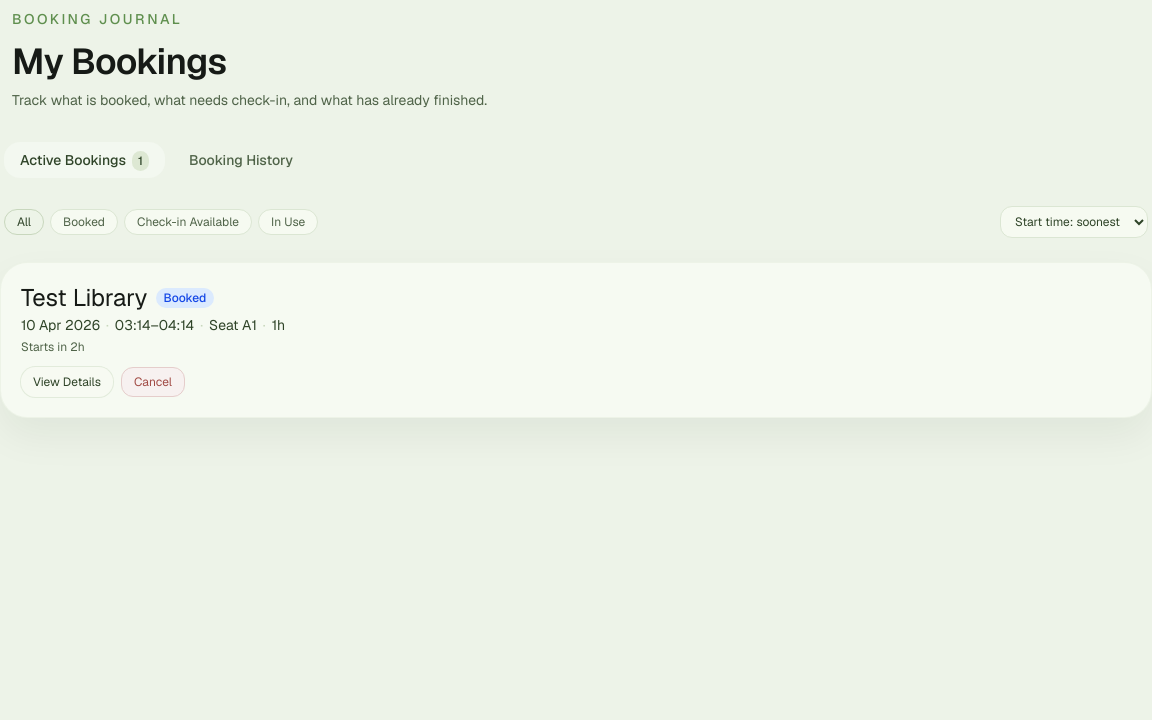
Test case: BookingsPage › modal stays open and shows error when cancel mutation fails
Click the button "View Details": click(67, 382) [21,367,113,397]
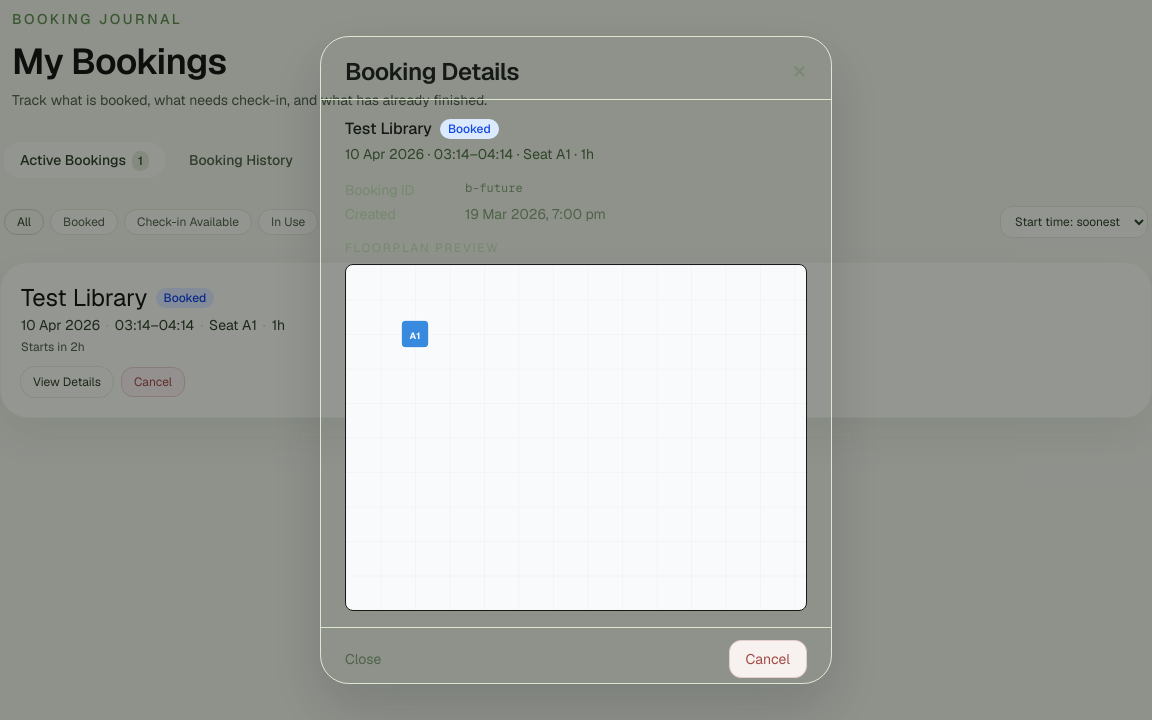
Now the heading "Booking Details" is shown, box [345,57,519,87]
Click the button "Cancel": click(768, 659) [729,640,807,678]
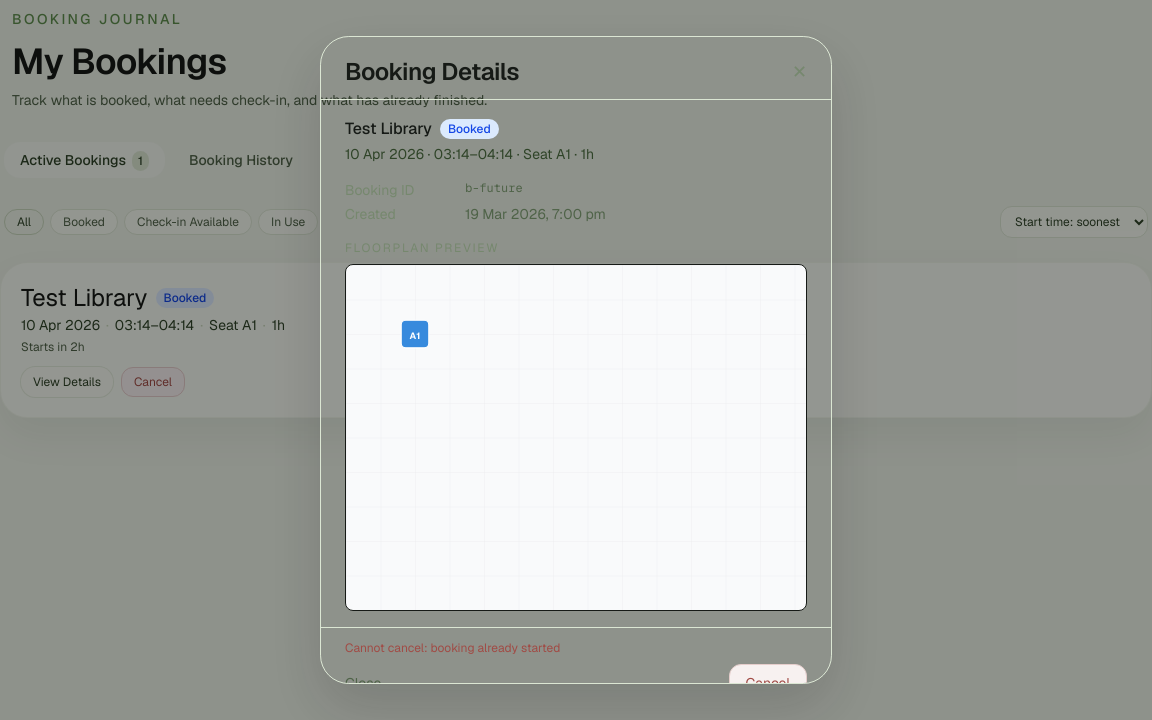
Now the heading "Booking Details" is shown, box [345,57,519,87]
Now the text "Cannot cancel: booking already started" is shown, box [345,640,560,656]
